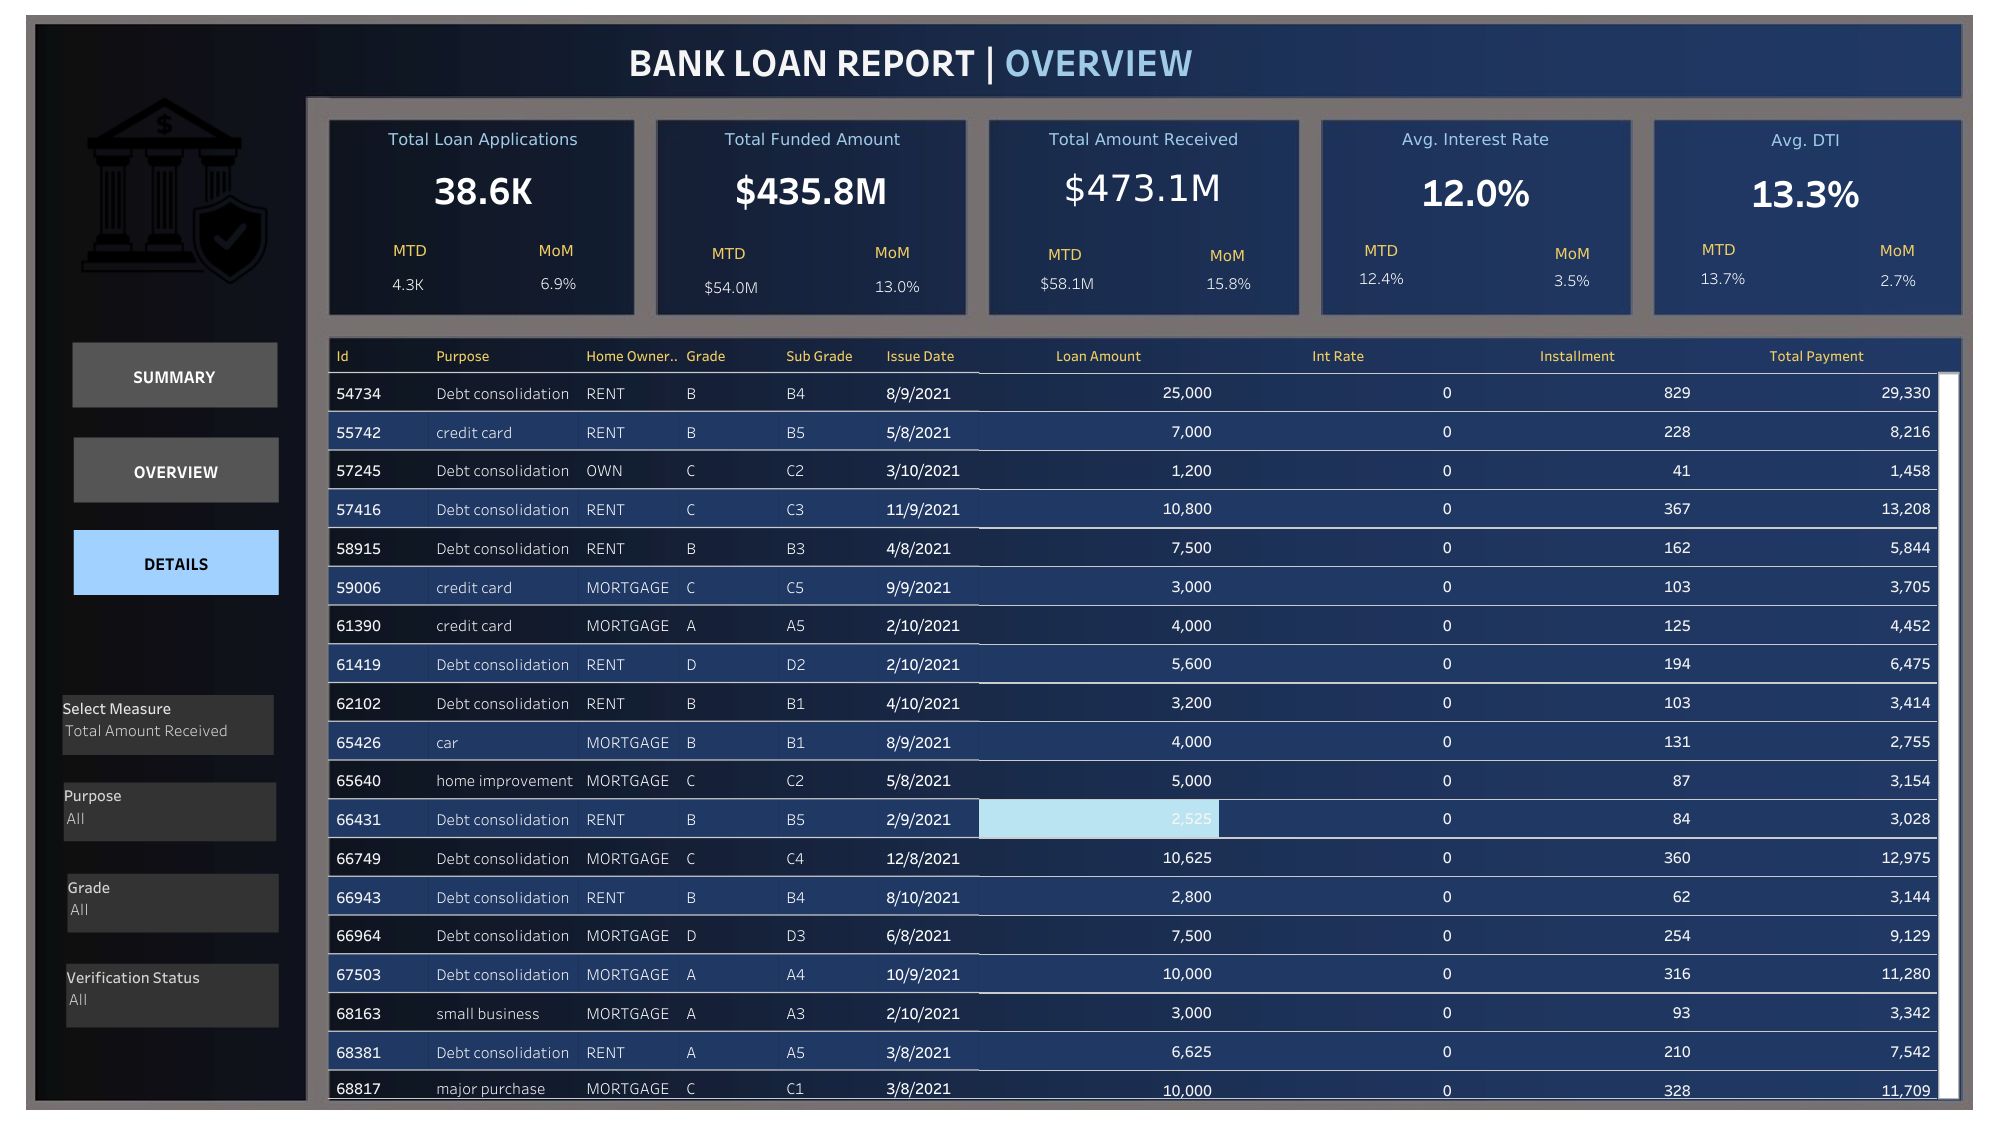

The dashboard page shown, as its layout file describes it:
{"tool":"tableau","page":{"name":"DETAILS","canvas":[1600,900],"ordinal":0},"visuals":[{"type":"image","param":"Image/Tableau Background 3.jpg","box":[8,8,1584,884]},{"type":"text","box":[500,25,591,48]},{"type":"image","param":"Image/finance-7731978_1280.png","box":[65,78,150,149]},{"type":"worksheet","title":"Total Loan Applications","mark":"Automatic","box":[266,97,241,76]},{"type":"worksheet","title":"Total Funded Amount","mark":"Automatic","box":[528,97,244,76]},{"type":"worksheet","title":"Total Amount Received","mark":"Automatic","box":[793,97,244,76]},{"type":"worksheet","title":"Avg. Interest Rate","mark":"Automatic","box":[1059,97,243,80]},{"type":"worksheet","title":"Avg. DTI","mark":"Automatic","box":[1324,98,241,79]},{"type":"text","box":[1346,184,58,30]},{"type":"text","box":[1076,185,58,30]},{"type":"text","box":[1489,185,58,30]},{"type":"text","box":[685,186,58,30]},{"type":"text","box":[554,187,58,30]},{"type":"text","box":[1229,187,58,30]},{"type":"text","box":[299,188,58,24]},{"type":"text","box":[416,188,58,24]},{"type":"text","box":[823,188,58,30]},{"type":"text","box":[953,189,58,30]},{"type":"worksheet","title":"MTD Avg Int Rate","mark":"Automatic","box":[1075,200,61,45]},{"type":"worksheet","title":"MoM Total Amount Received","mark":"Automatic","box":[940,204,86,45]},{"type":"worksheet","title":"MTD Avg. DTI","mark":"Automatic","box":[1338,205,81,34]},{"type":"worksheet","title":"MTD Total Amount Received","mark":"Automatic","box":[819,209,71,34]},{"type":"worksheet","title":"MoM Avg Int Rate","mark":"Automatic","box":[1215,209,85,31]},{"type":"worksheet","title":"MoM Avg DTI","mark":"Automatic","box":[1483,209,71,30]},{"type":"worksheet","title":"MoM Total Funded Amount","mark":"Automatic","box":[684,215,68,26]},{"type":"worksheet","title":"MTD Total Loan Applications","mark":"Automatic","box":[293,216,69,22]},{"type":"worksheet","title":"MoM Loan Application","mark":"Automatic","box":[414,217,65,19]},{"type":"worksheet","title":"MTD Total Funded Amount","mark":"Automatic","box":[546,220,78,18]},{"type":"worksheet","title":"Details Tab","mark":"Automatic","rows":["id","purpose","home_ownership","grade","sub_grade","issue_date"],"box":[263,270,1305,610]},{"type":"dashboard-object","box":[58,274,164,52]},{"type":"dashboard-object","box":[59,350,164,52]},{"type":"dashboard-object","box":[59,424,164,52]},{"type":"parameter","param":"[Parameters].[Parameter 1]","box":[50,556,169,48]},{"type":"filter","title":"Avg. DTI","param":"[federated.1d02x8h0645hfc154q3pg11jt201].[none:purpose:nk]","box":[51,626,170,47]},{"type":"filter","title":"Avg. DTI","param":"[federated.1d02x8h0645hfc154q3pg11jt201].[none:grade:nk]","box":[54,699,169,47]},{"type":"filter","title":"Avg. DTI","param":"[federated.1d02x8h0645hfc154q3pg11jt201].[none:verification_status:nk]","box":[53,771,170,51]}]}

Visuals, with their boxes in screenshot pixels (x1, y1, x2, y2), scaled from the page's 1600x900 canvas onto the 1999x1124 screenshot:
image: bbox=[10, 10, 1989, 1114]
text: bbox=[625, 31, 1363, 91]
image: bbox=[81, 97, 269, 283]
"Total Loan Applications" worksheet: bbox=[332, 121, 633, 216]
"Total Funded Amount" worksheet: bbox=[660, 121, 965, 216]
"Total Amount Received" worksheet: bbox=[991, 121, 1296, 216]
"Avg. Interest Rate" worksheet: bbox=[1323, 121, 1627, 221]
"Avg. DTI" worksheet: bbox=[1654, 122, 1955, 221]
text: bbox=[1682, 230, 1754, 267]
text: bbox=[1344, 231, 1417, 269]
text: bbox=[1860, 231, 1933, 269]
text: bbox=[856, 232, 928, 270]
text: bbox=[692, 234, 765, 271]
text: bbox=[1535, 234, 1608, 271]
text: bbox=[374, 235, 446, 265]
text: bbox=[520, 235, 592, 265]
text: bbox=[1028, 235, 1101, 272]
text: bbox=[1191, 236, 1263, 274]
"MTD Avg Int Rate" worksheet: bbox=[1343, 250, 1419, 306]
"MoM Total Amount Received" worksheet: bbox=[1174, 255, 1282, 311]
"MTD Avg. DTI" worksheet: bbox=[1672, 256, 1773, 298]
"MTD Total Amount Received" worksheet: bbox=[1023, 261, 1112, 303]
"MoM Avg Int Rate" worksheet: bbox=[1518, 261, 1624, 300]
"MoM Avg DTI" worksheet: bbox=[1853, 261, 1942, 298]
"MoM Total Funded Amount" worksheet: bbox=[855, 269, 940, 301]
"MTD Total Loan Applications" worksheet: bbox=[366, 270, 452, 297]
"MoM Loan Application" worksheet: bbox=[517, 271, 598, 295]
"MTD Total Funded Amount" worksheet: bbox=[682, 275, 780, 297]
"Details Tab" worksheet: bbox=[329, 337, 1959, 1099]
dashboard-object: bbox=[72, 342, 277, 407]
dashboard-object: bbox=[74, 437, 279, 502]
dashboard-object: bbox=[74, 530, 279, 594]
parameter: bbox=[62, 694, 274, 754]
"Avg. DTI" filter: bbox=[64, 782, 276, 841]
"Avg. DTI" filter: bbox=[67, 873, 279, 932]
"Avg. DTI" filter: bbox=[66, 963, 279, 1027]
